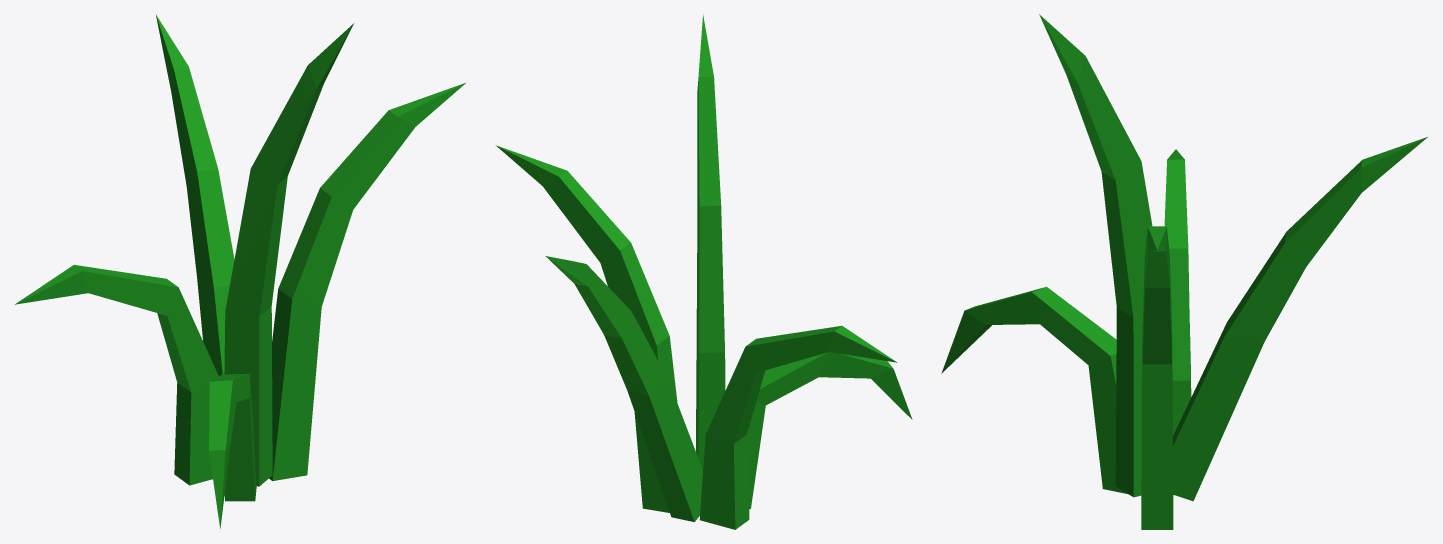
The model's file is grass_02.fbx.
3 renders of one model, left to right at view 1: azimuth 30°, elevation 25°; view 2: azimuth 150°, elevation 25°; view 3: azimuth 270°, elevation 25°, orthographic. The views are drawn at different scales.
Parts seen in each view (by area): view 1: Cube.005; view 2: Cube.005; view 3: Cube.005.
Boxes of the visible parts, bbox=[...] form: Cube.005: bbox=[15, 15, 465, 528]; Cube.005: bbox=[495, 14, 912, 529]; Cube.005: bbox=[941, 14, 1427, 529].
Size of the model in its own units: 15.31 by 16.1 by 13.8.
